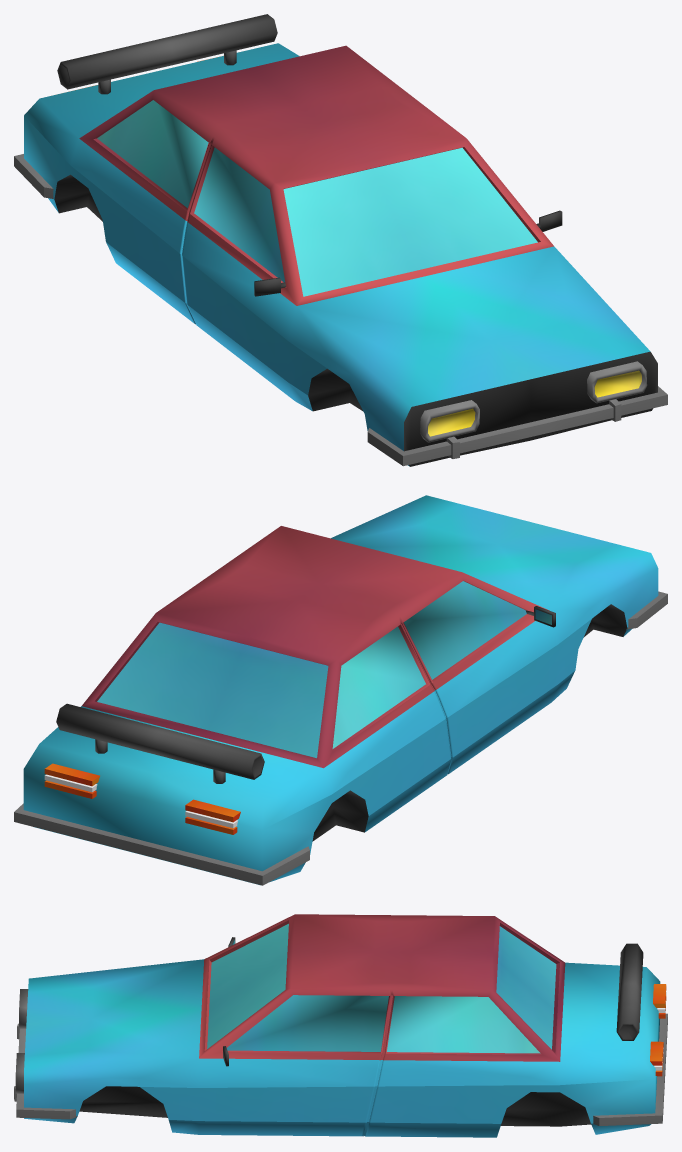
File: Car_7.fbx
The picture shows the model from 3 angles, top to bottom: view 1: azimuth 30°, elevation 25°; view 2: azimuth 150°, elevation 25°; view 3: azimuth 270°, elevation 25°; orthographic projection. The views are drawn at different scales.
Visible parts, largest first — view 1: Car_7; view 2: Car_7; view 3: Car_7.
Part boxes in pixels (bbox=[...]): Car_7: bbox=[14, 14, 667, 466]; Car_7: bbox=[14, 495, 667, 885]; Car_7: bbox=[14, 914, 667, 1137].
Bounding box in the file's own units: 246 × 132 × 575.
Materials: 1 (1 with a texture image).
